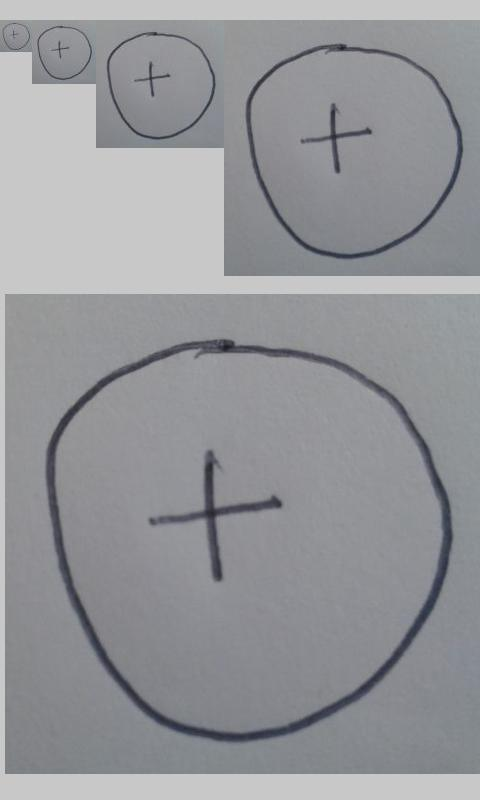button: (44, 339, 454, 744), (245, 43, 464, 262), (106, 31, 216, 140), (37, 25, 92, 80), (2, 22, 30, 50)
